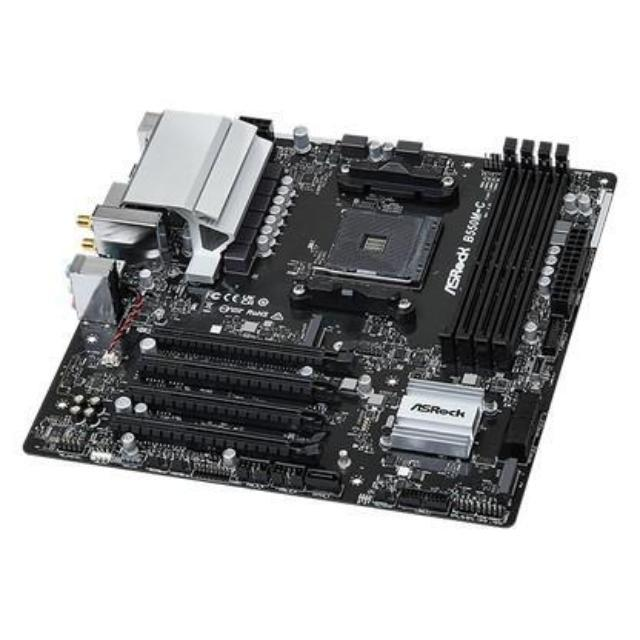Mainboard: (21, 108, 614, 522)
